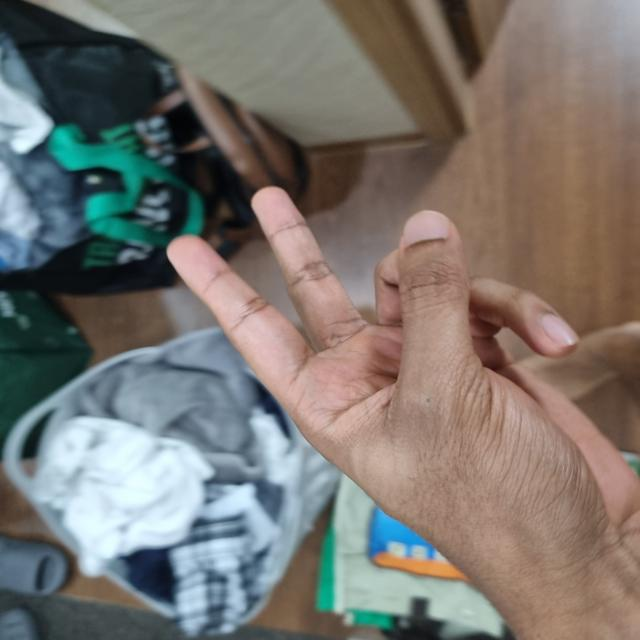Scissors: (43, 169, 531, 636)
